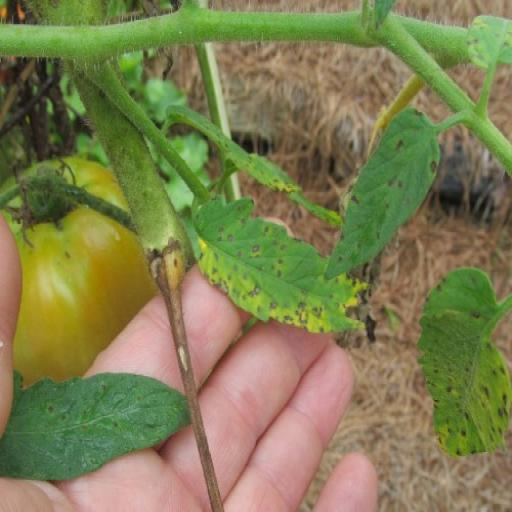Septoria: (186, 196, 370, 342), (318, 112, 442, 286), (0, 368, 188, 482), (418, 264, 505, 460)
